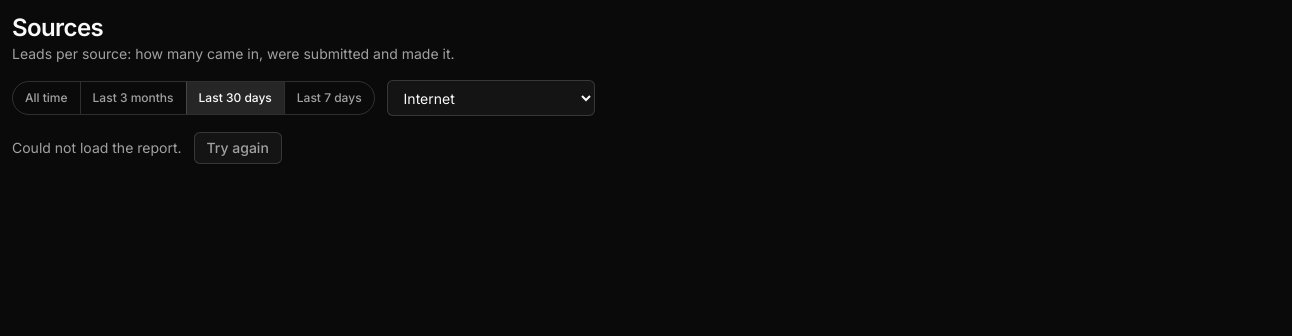
SourceReport › shows a failed load with a retry, never a table or sample rows
Expected: the message shows "Could not load the report.", 12,139 -> 182,156
Expected: the text "Direct" is not shown
Click the button "Try again" at (238, 148), box 194,132 -> 282,164
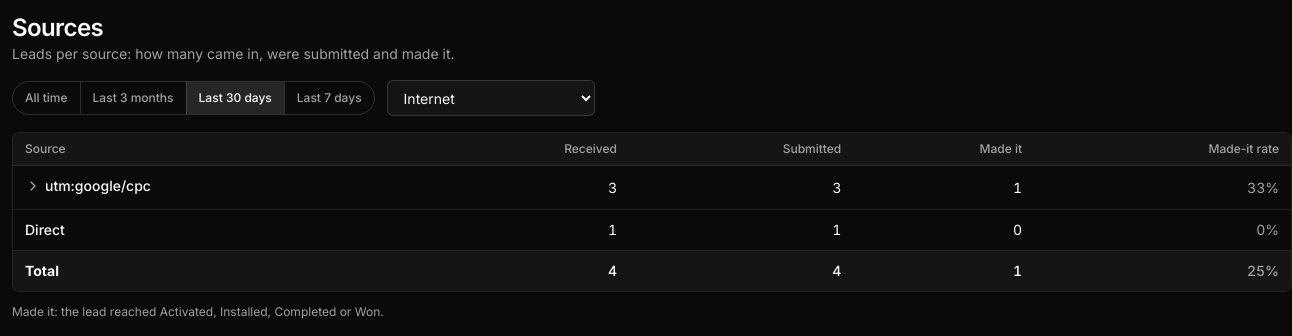
Result: the table is shown at 13,133 -> 1291,291
